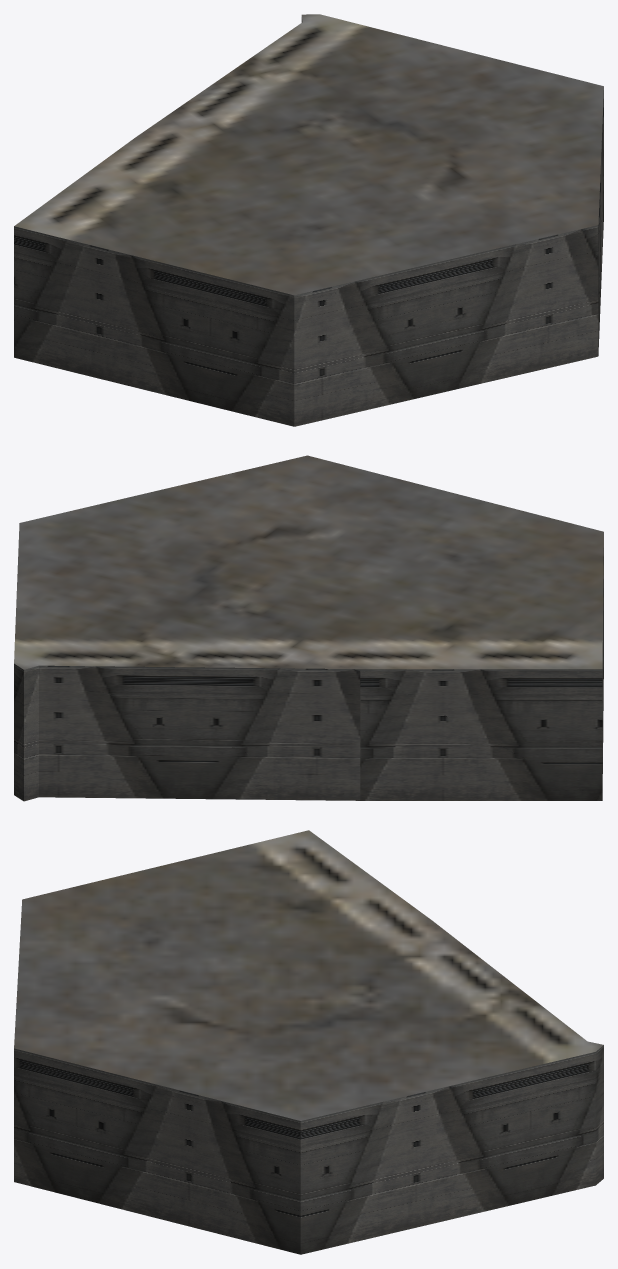
The model's file is fortress_light_30.glb.
3 renders of one model, top to bottom at view 1: azimuth 30°, elevation 25°; view 2: azimuth 150°, elevation 25°; view 3: azimuth 270°, elevation 25°, orthographic.
Visible parts, largest first — view 1: buildings/saxarba/fortress_light/fortress_light_30; view 2: buildings/saxarba/fortress_light/fortress_light_30; view 3: buildings/saxarba/fortress_light/fortress_light_30.
Boxes of the visible parts, x1,y1,x2,y2 form: buildings/saxarba/fortress_light/fortress_light_30: (14, 14, 603, 426); buildings/saxarba/fortress_light/fortress_light_30: (14, 455, 603, 801); buildings/saxarba/fortress_light/fortress_light_30: (14, 830, 603, 1254).
Size of the model in its own units: 84 by 18 by 72.
